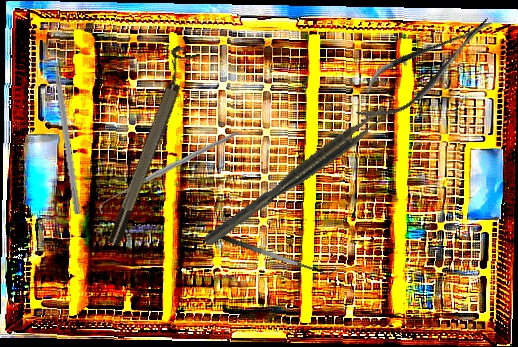Chopper: (50, 43, 90, 215)
Fixation Ring: (96, 44, 201, 248)
Hook Surgical: (98, 123, 240, 221)
Micro Scissor: (342, 1, 506, 135)
Spatula Surgical: (207, 218, 337, 284)
Tissue Forceps: (198, 103, 394, 248)
